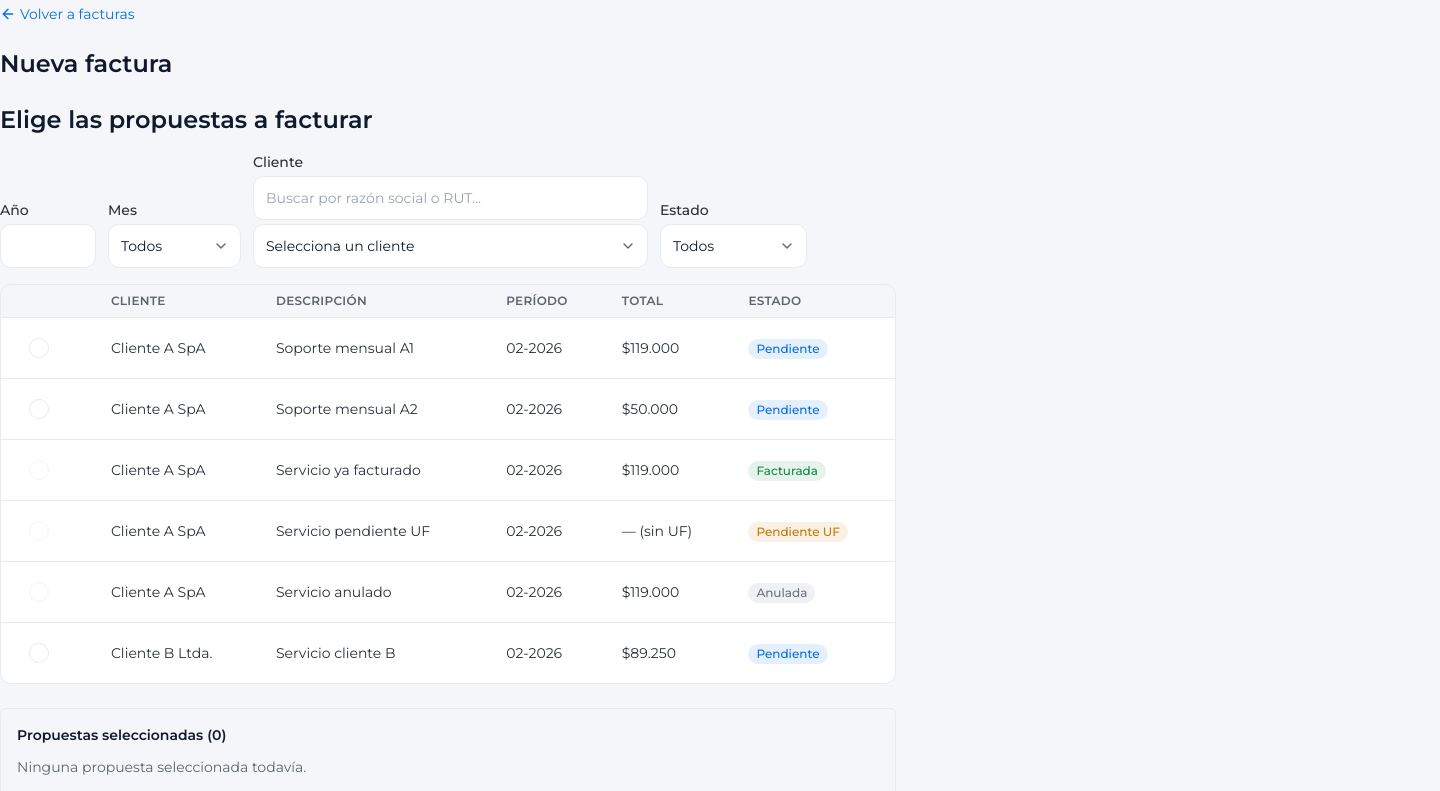
it: NuevaFactura › el subtotal suma correctamente las propuestas seleccionadas
This screenshot has width=1440, height=791.
Click the checkbox named "Soporte mensual A1". click: (39, 348)
box: [29,338,49,358]
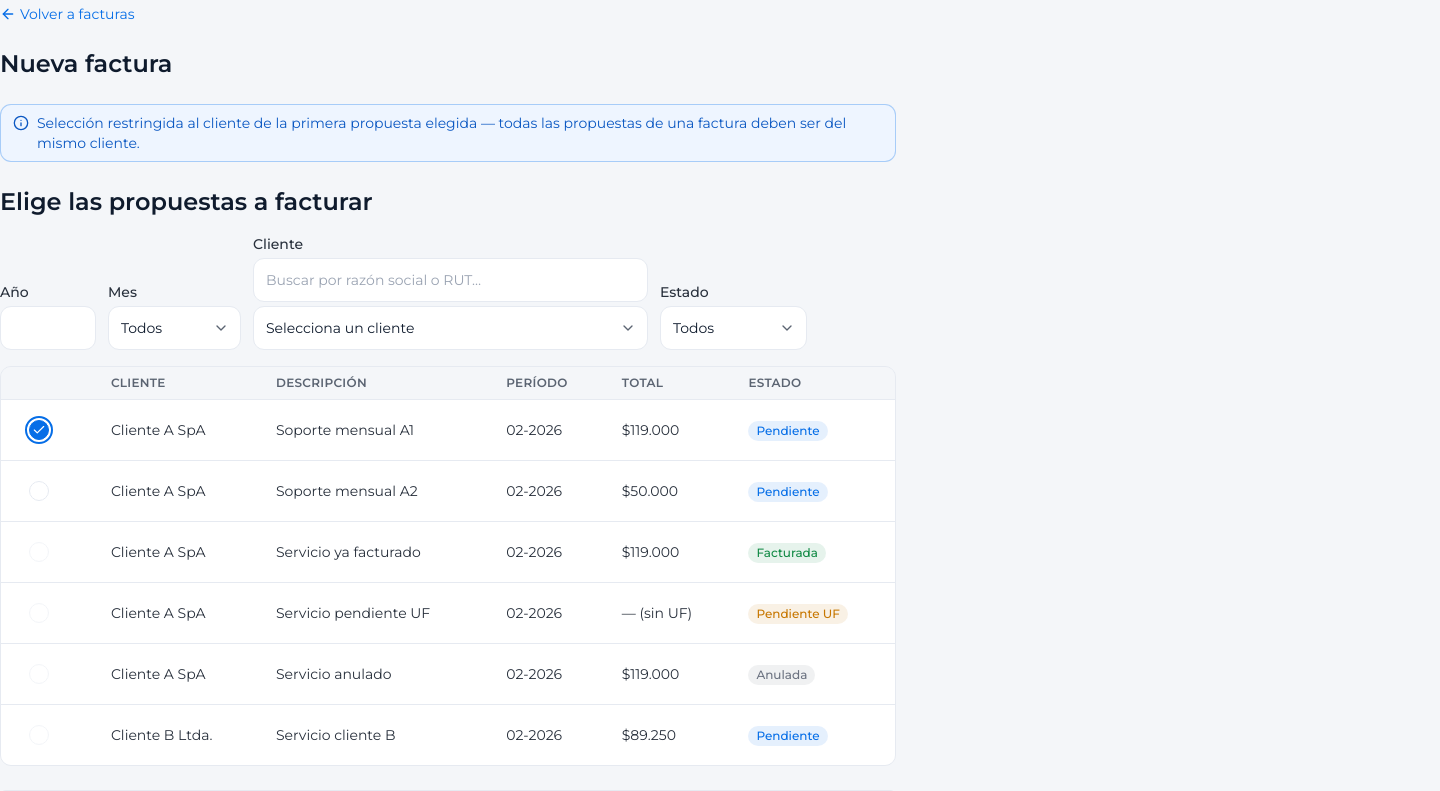
Click the checkbox named "Soporte mensual A2". click: (39, 491)
box: [29,481,49,501]
(page scrolled)
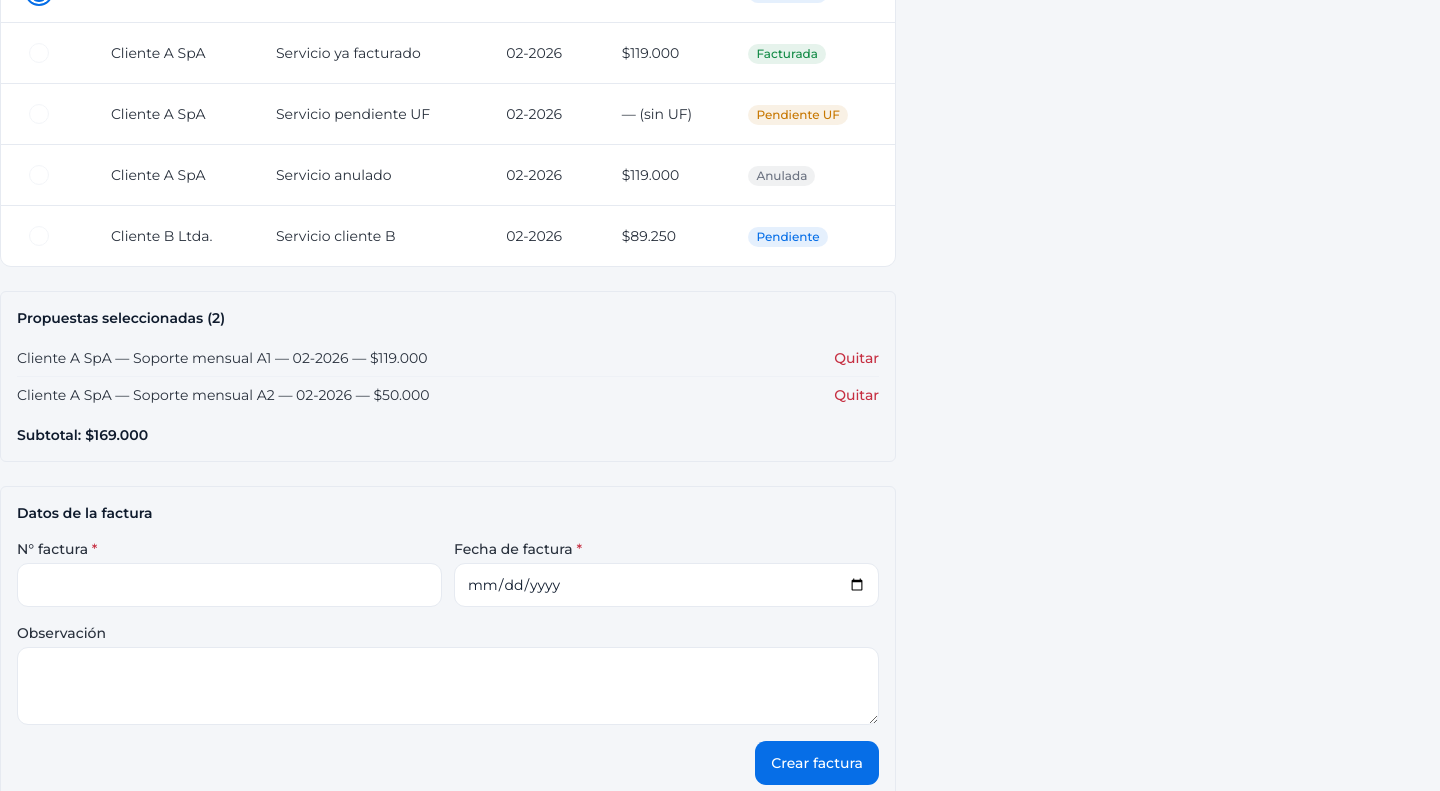
Now the text "Subtotal: $169.000" is shown, box [17,426,148,444]
